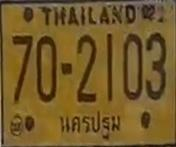0: (36, 35, 56, 101), (122, 33, 142, 98)
1: (106, 32, 114, 101)
2: (76, 34, 96, 101)
3: (145, 32, 166, 99)
7: (12, 35, 32, 103)
NPT: (55, 107, 124, 140)
